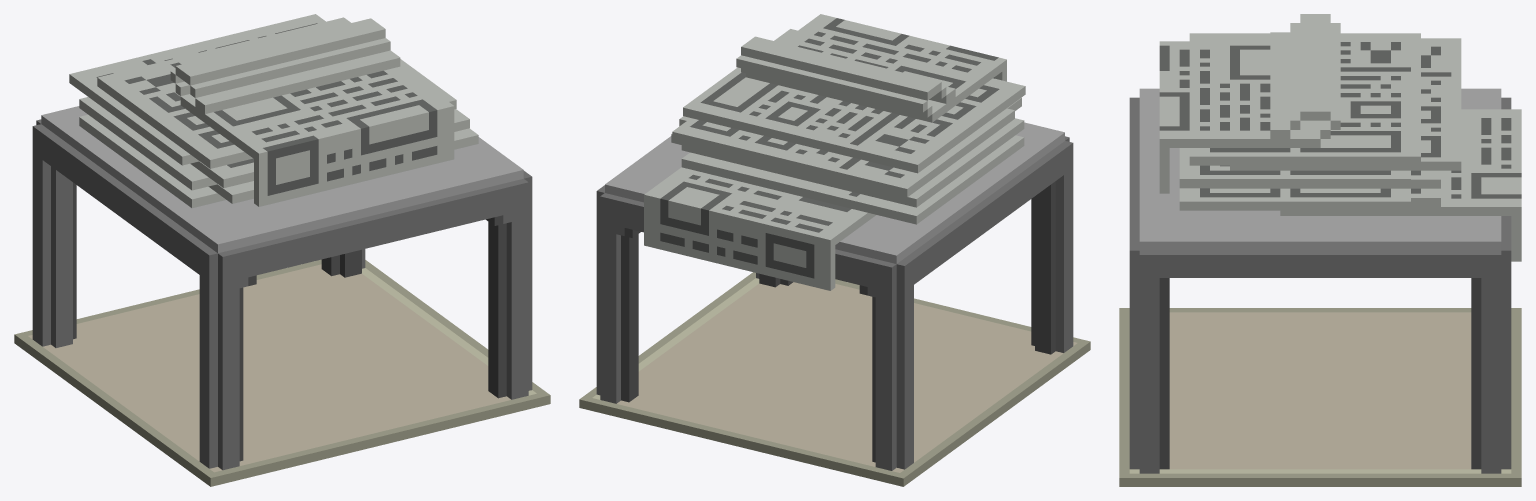
Rendered from Mesa_Jornal_2.obj.
3 renders of one model, left to right at view 1: azimuth 30°, elevation 25°; view 2: azimuth 150°, elevation 25°; view 3: azimuth 270°, elevation 25°, orthographic. The views are drawn at different scales.
Size of the model in its own units: 40 by 37 by 40.
Materials: 1 (1 with a texture image).
